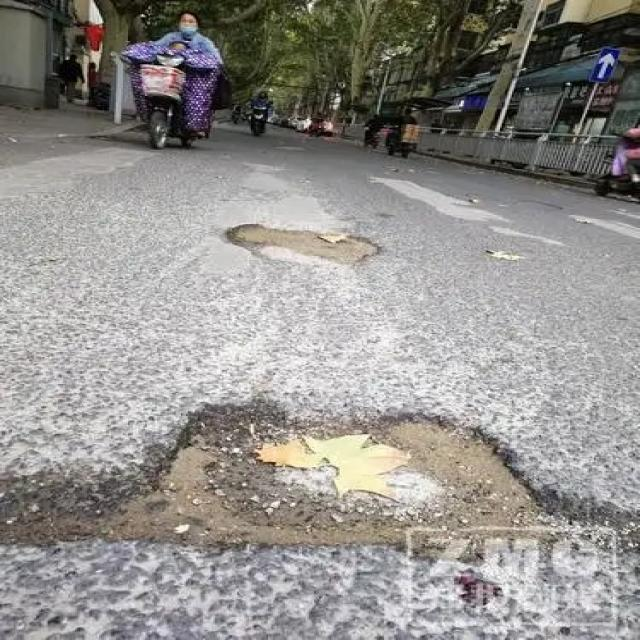Pothole: (106, 398, 570, 562), (225, 222, 384, 268)
